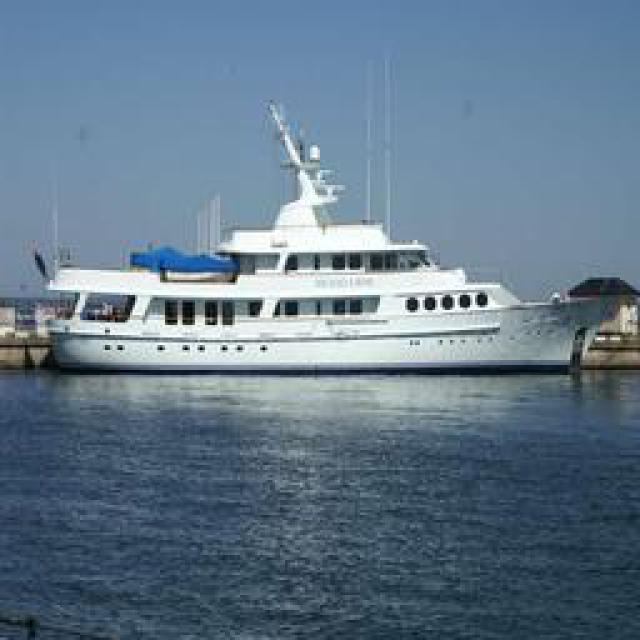Ship: (51, 89, 624, 374)
